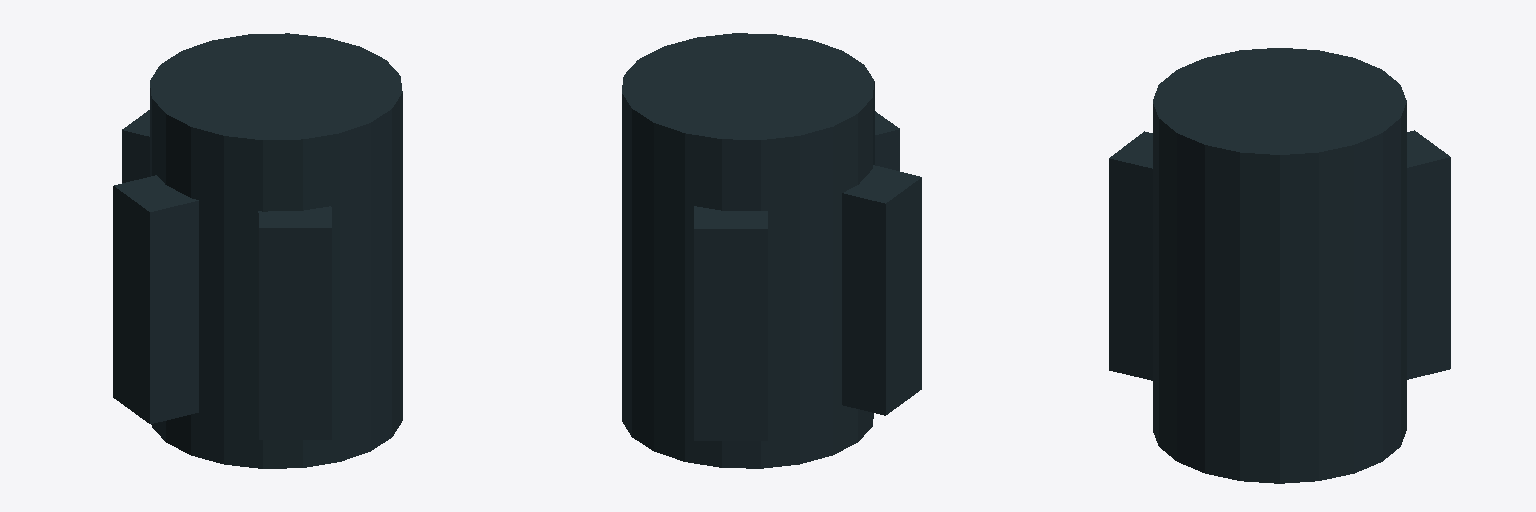
Rendered from big tube.obj.
3 renders of one model, left to right at view 1: azimuth 30°, elevation 25°; view 2: azimuth 150°, elevation 25°; view 3: azimuth 270°, elevation 25°, orthographic.
Parts seen in each view (by area): view 1: big tube; view 2: big tube; view 3: big tube.
Boxes of the visible parts, x1=… form: big tube: x1=113, y1=33, x2=402, y2=468; big tube: x1=622, y1=33, x2=921, y2=468; big tube: x1=1109, y1=48, x2=1450, y2=483.
Size of the model in its own units: 82.7 by 99.79 by 94.2.